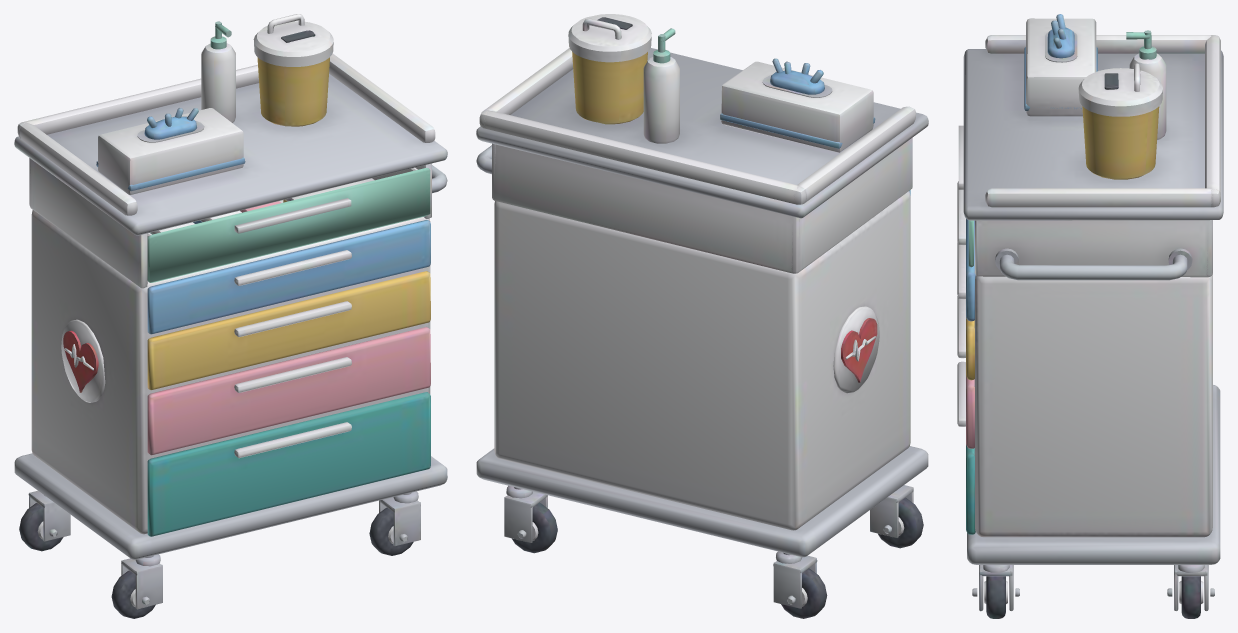
Rendered from medical-medical-cart.glb.
3 views of the same model, side by side, from view 1: azimuth 30°, elevation 25°; view 2: azimuth 150°, elevation 25°; view 3: azimuth 270°, elevation 25° (orthographic). The views are drawn at different scales.
Parts seen in each view (by area): view 1: medical-cart_body, medical-cart_drawer; view 2: medical-cart_body; view 3: medical-cart_body, medical-cart_drawer.
Boxes of the visible parts, <box> form: medical-cart_body: <box>14,14,447,618</box>; medical-cart_drawer: <box>147,167,430,282</box>; medical-cart_body: <box>476,14,928,618</box>; medical-cart_body: <box>957,14,1223,618</box>; medical-cart_drawer: <box>958,125,973,267</box>.
Bounding box in the file's own units: 0.7121 × 1 × 0.4548.
Materials: 2 (2 with a texture image).
